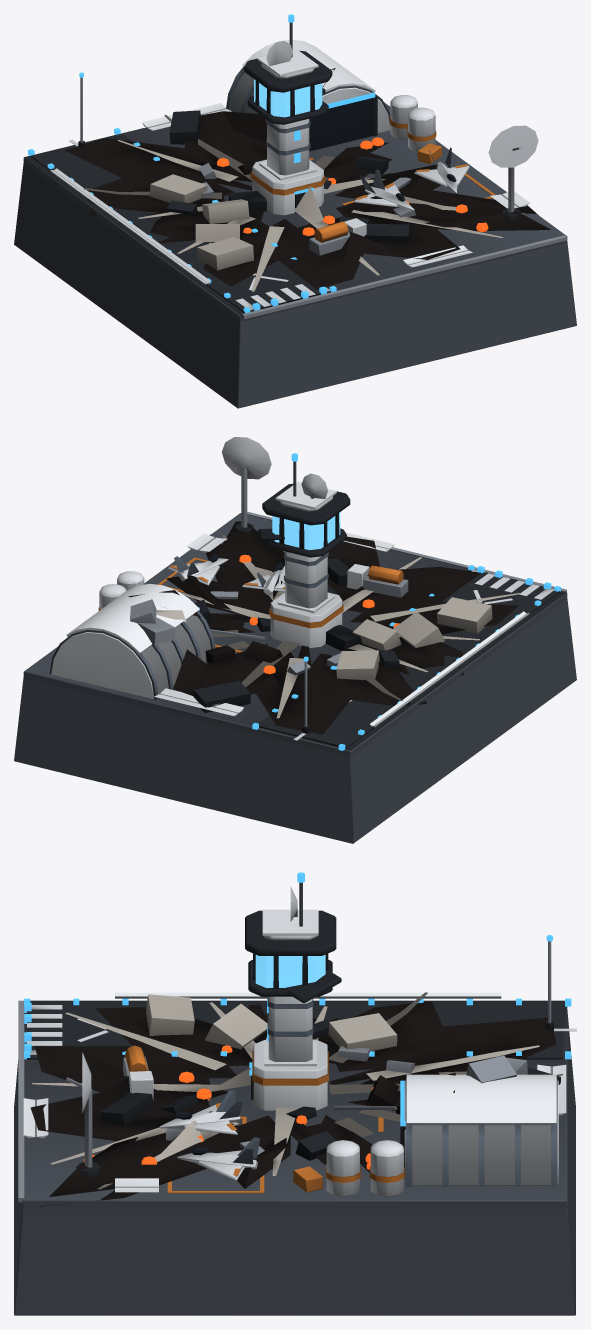
The model's file is airfield-vesper.glb.
3 views of the same model, one above another, from view 1: azimuth 30°, elevation 25°; view 2: azimuth 150°, elevation 25°; view 3: azimuth 270°, elevation 25° (orthographic). The views are drawn at different scales.
Parts seen in each view (by area): view 1: site_airfield_vesper_body, site_airfield_vesper_ruin, site_airfield_vesper_core; view 2: site_airfield_vesper_body, site_airfield_vesper_ruin, site_airfield_vesper_core; view 3: site_airfield_vesper_body, site_airfield_vesper_ruin, site_airfield_vesper_core.
Part boxes in pixels (box(x1,y1,x2,y2)): site_airfield_vesper_body: box(14, 39, 576, 408); site_airfield_vesper_ruin: box(65, 68, 550, 291); site_airfield_vesper_core: box(244, 14, 332, 124); site_airfield_vesper_body: box(14, 437, 576, 843); site_airfield_vesper_ruin: box(128, 521, 520, 734); site_airfield_vesper_core: box(262, 453, 350, 557); site_airfield_vesper_body: box(14, 935, 576, 1315); site_airfield_vesper_ruin: box(30, 953, 562, 1206); site_airfield_vesper_core: box(245, 872, 336, 996).
Bounding box in the file's own units: 5.6 × 4.23 × 6.41.
